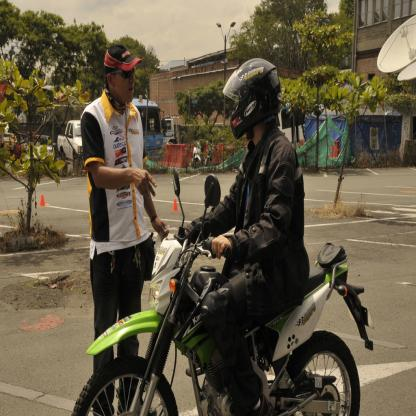Helmet: (224, 59, 279, 137)
